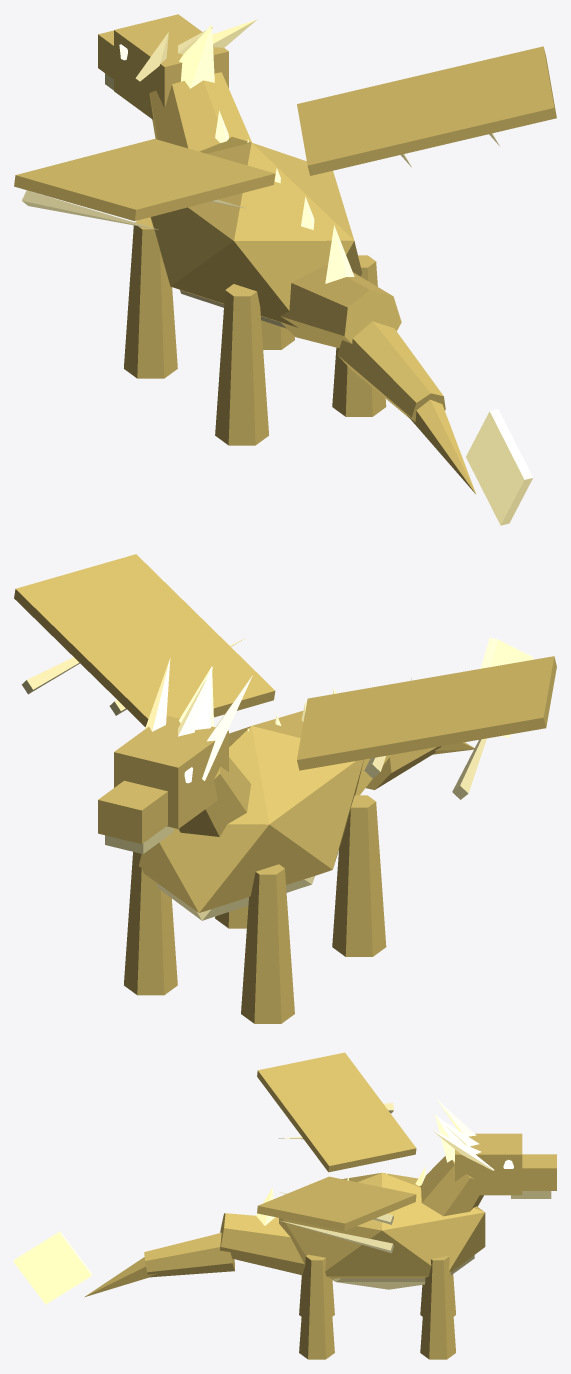
File: dragon_gold.glb
3 renders of one model, top to bottom at view 1: azimuth 30°, elevation 25°; view 2: azimuth 150°, elevation 25°; view 3: azimuth 270°, elevation 25°, orthographic. The views are drawn at different scales.
Visible parts, largest first — view 1: DragonBody, DragonWingR, DragonWingL, DragonLegBL, DragonLegFL, DragonTailA, DragonHead, DragonTailB, DragonNeck, DragonTailFin, DragonLegBR, DragonTailC (+5 smaller); view 2: DragonWingR, DragonBody, DragonWingL, DragonHead, DragonLegFL, DragonLegBL, DragonLegFR, DragonSnout, DragonNeck, DragonTailB, DragonTailFin, DragonBelly (+7 smaller); view 3: DragonWingL, DragonBody, DragonWingR, DragonTailA, DragonHead, DragonTailFin, DragonLegBR, DragonLegFR, DragonTailB, DragonNeck, DragonSnout, DragonBelly (+4 smaller).
Boxes of the visible parts, left/top/right/bottom form: DragonBody: left=150, top=137, right=362, bottom=327; DragonWingR: left=297, top=46, right=556, bottom=175; DragonWingL: left=14, top=139, right=275, bottom=221; DragonLegBL: left=215, top=284, right=268, bottom=445; DragonLegFL: left=124, top=217, right=177, bottom=378; DragonTailA: left=280, top=265, right=401, bottom=348; DragonHead: left=114, top=14, right=228, bottom=119; DragonTailB: left=337, top=321, right=445, bottom=421; DragonNeck: left=149, top=72, right=251, bottom=151; DragonTailFin: left=466, top=409, right=532, bottom=525; DragonLegBR: left=332, top=255, right=386, bottom=416; DragonTailC: left=407, top=399, right=476, bottom=494; DragonWingR: left=14, top=554, right=275, bottom=726; DragonBody: left=139, top=711, right=363, bottom=912; DragonWingL: left=297, top=656, right=556, bottom=770; DragonHead: left=114, top=715, right=228, bottom=828; DragonLegFL: left=241, top=864, right=294, bottom=1023; DragonLegBL: left=332, top=795, right=386, bottom=956; DragonLegFR: left=124, top=852, right=177, bottom=995; DragonSnout: left=98, top=780, right=167, bottom=844; DragonNeck: left=178, top=757, right=251, bottom=836; DragonTailB: left=366, top=746, right=441, bottom=789; DragonTailFin: left=480, top=637, right=533, bottom=737; DragonBelly: left=156, top=876, right=314, bottom=920; DragonWingL: left=257, top=1052, right=416, bottom=1172; DragonBody: left=279, top=1172, right=485, bottom=1278; DragonWingR: left=257, top=1176, right=416, bottom=1230; DragonTailA: left=219, top=1213, right=304, bottom=1274; DragonHead: left=455, top=1133, right=522, bottom=1195; DragonTailFin: left=14, top=1231, right=91, bottom=1304; DragonLegBR: left=299, top=1254, right=334, bottom=1359; DragonLegFR: left=420, top=1256, right=455, bottom=1359; DragonTailB: left=144, top=1232, right=234, bottom=1277; DragonNeck: left=419, top=1156, right=483, bottom=1216; DragonSnout: left=522, top=1154, right=556, bottom=1190; DragonBelly: left=331, top=1255, right=474, bottom=1289.
Bounding box in the file's own units: 4 × 2.4 × 5.32.
